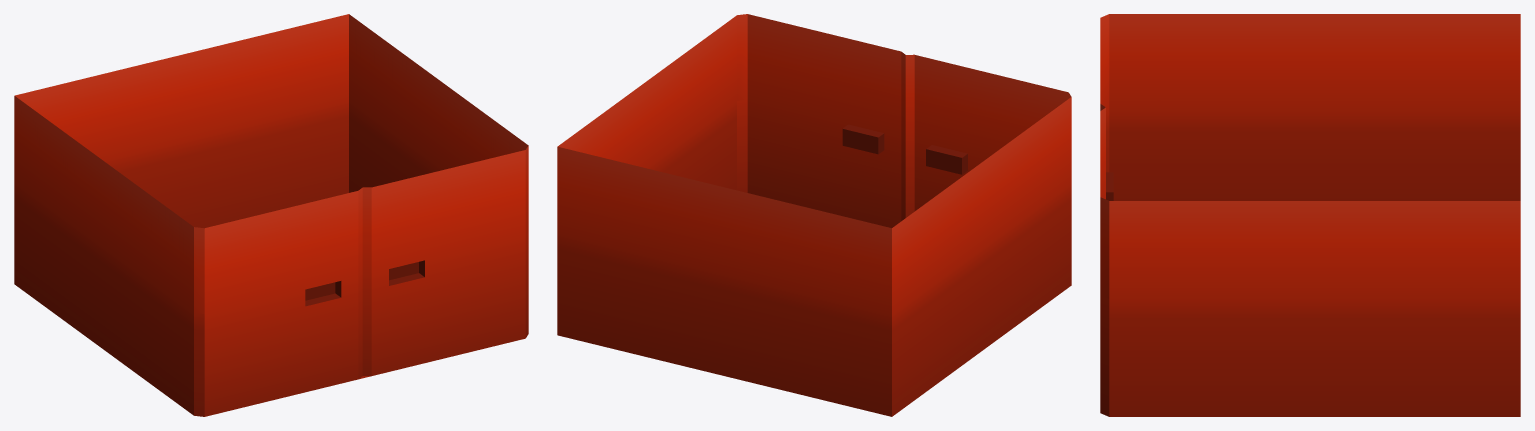
Rendered from Counter_01_v06_C04.fbx.
3 views of the same model, side by side, from view 1: azimuth 30°, elevation 25°; view 2: azimuth 150°, elevation 25°; view 3: azimuth 270°, elevation 25° (orthographic). The views are drawn at different scales.
Parts seen in each view (by area): view 1: Counter_01_v06_C04; view 2: Counter_01_v06_C04; view 3: Counter_01_v06_C04.
Part boxes in pixels (x1,y1,x2,y2): Counter_01_v06_C04: (14, 14, 528, 416); Counter_01_v06_C04: (557, 14, 1071, 416); Counter_01_v06_C04: (1100, 14, 1520, 416).
Size of the model in its own units: 100 by 53.91 by 94.97.
